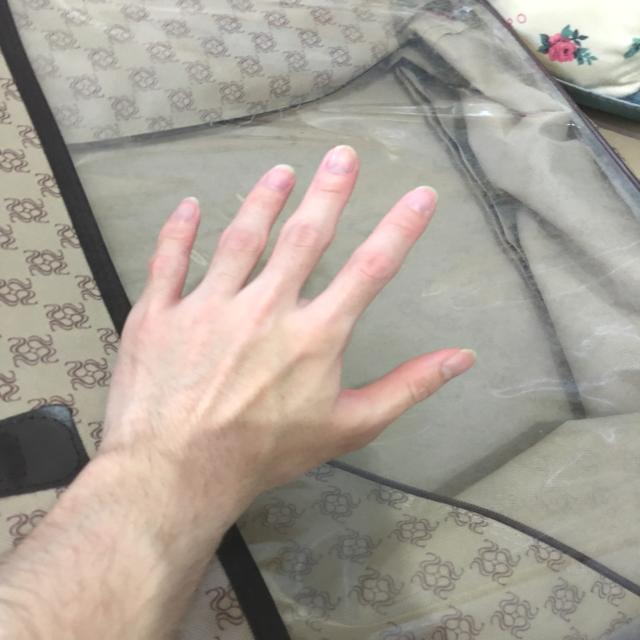no_glove: (89, 130, 487, 532)
